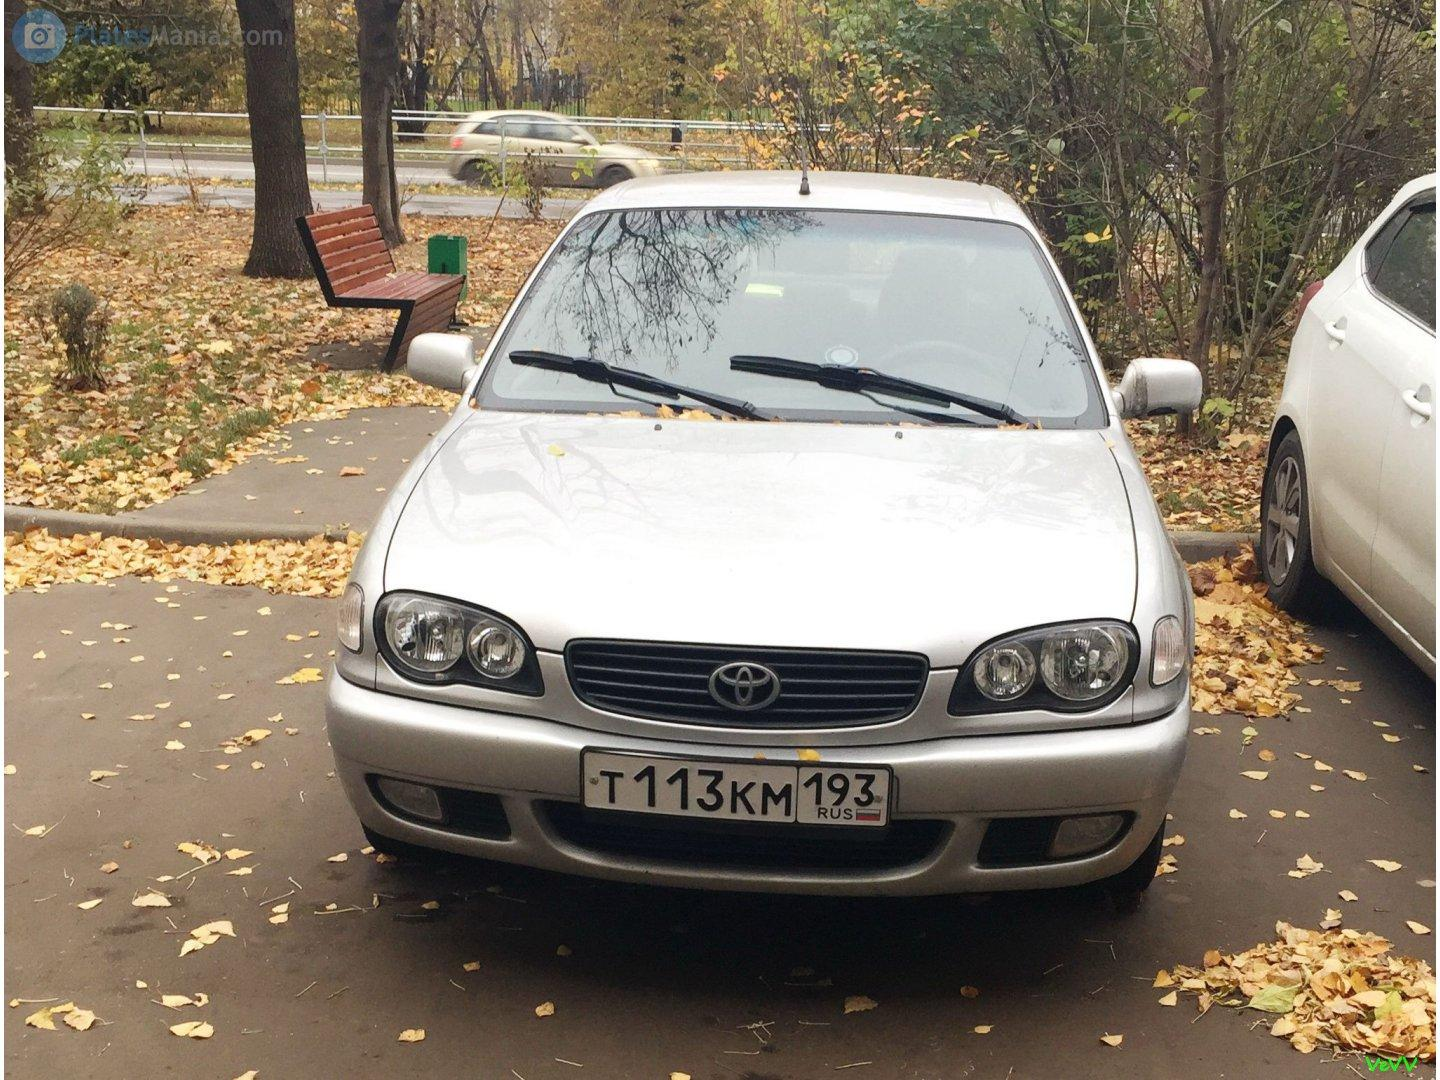license-plateSW: (585, 748, 899, 829)
